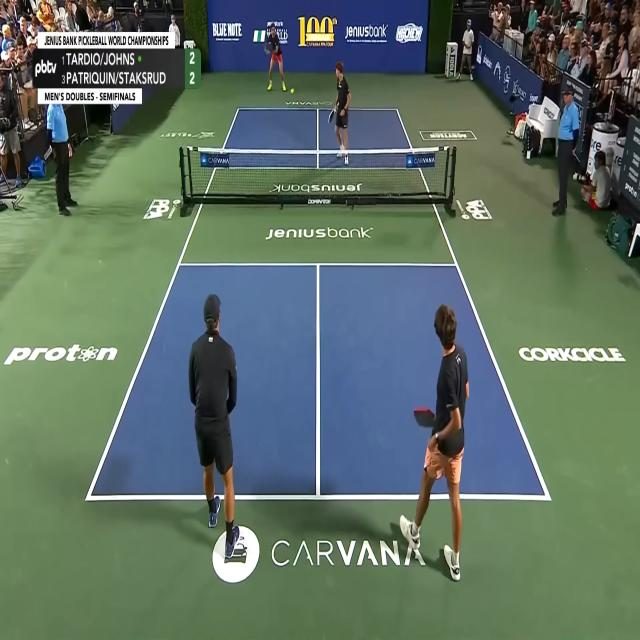ball: (290, 87, 294, 95)
